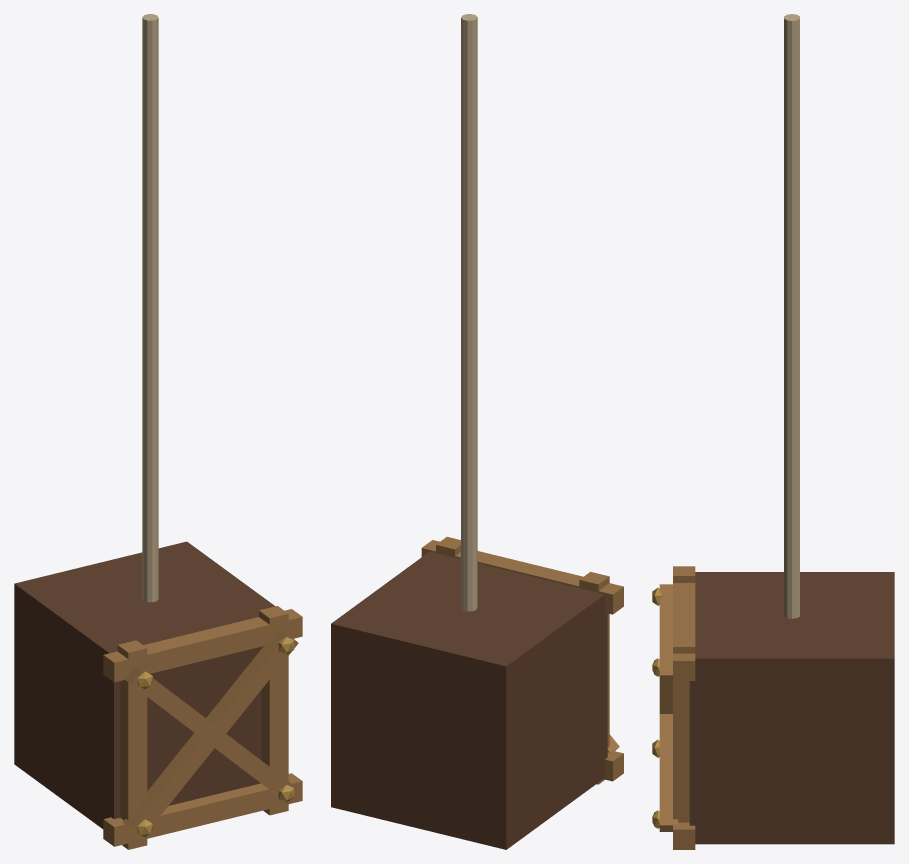
Rendered from PirateCove_CargoSwingWeight_Showcase.glb.
The picture shows the model from 3 angles, left to right: view 1: azimuth 30°, elevation 25°; view 2: azimuth 150°, elevation 25°; view 3: azimuth 270°, elevation 25°; orthographic projection. The views are drawn at different scales.
Visible parts, largest first — view 1: PirateCove_CargoSwingWeight_Showcase; view 2: PirateCove_CargoSwingWeight_Showcase; view 3: PirateCove_CargoSwingWeight_Showcase.
Boxes of the visible parts, box(x1,y1,x2,y2) form: PirateCove_CargoSwingWeight_Showcase: box(14, 14, 302, 849); PirateCove_CargoSwingWeight_Showcase: box(331, 14, 623, 849); PirateCove_CargoSwingWeight_Showcase: box(652, 14, 894, 849).
Size of the model in its own units: 1.2 by 4.69 by 1.3.
